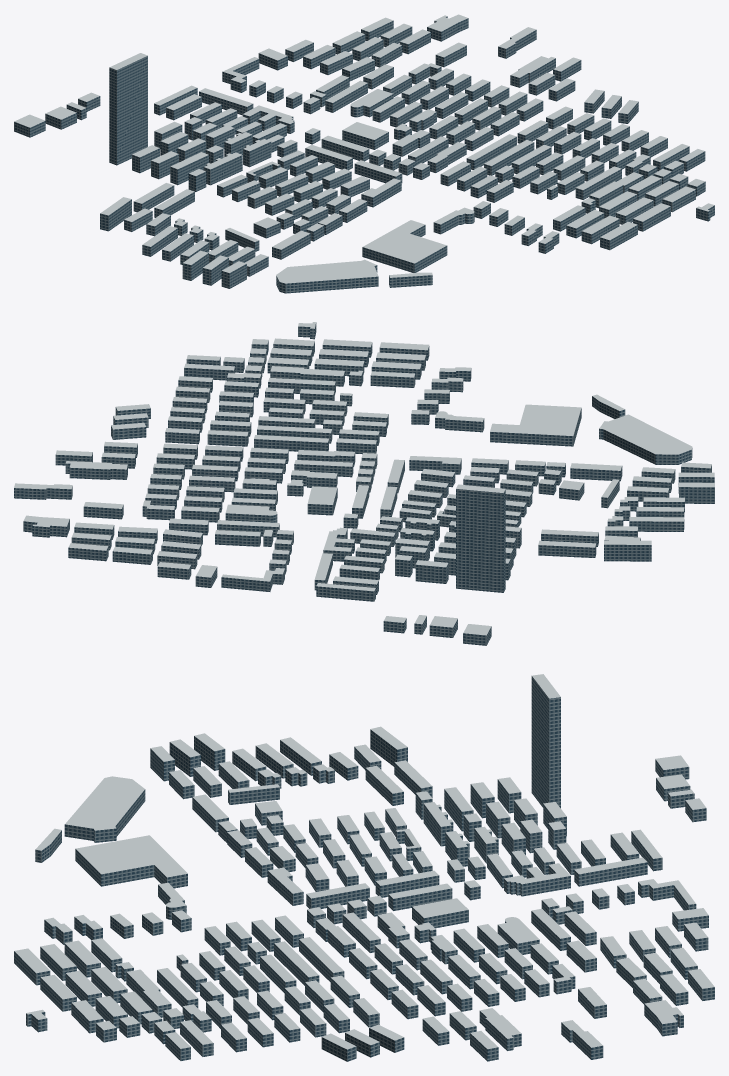
3 renders of one model, top to bottom at view 1: azimuth 30°, elevation 25°; view 2: azimuth 150°, elevation 25°; view 3: azimuth 270°, elevation 25°, orthographic. The views are drawn at different scales.
Size of the model in its own units: 664 by 115 by 623.
Materials: 2 (1 with a texture image).
